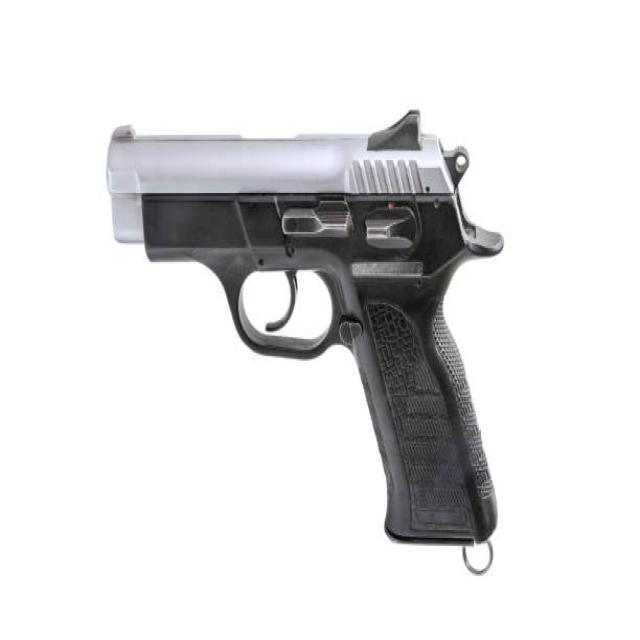pistol: (100, 105, 509, 578)
